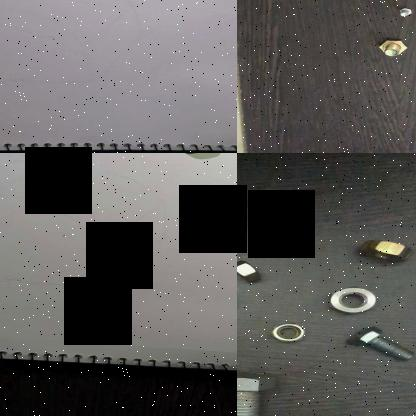Bolts: (237, 190, 305, 246), (344, 323, 416, 366), (237, 364, 280, 416), (376, 36, 412, 57), (393, 4, 416, 16)
NUTS: (324, 280, 382, 314), (348, 237, 414, 265), (268, 318, 310, 344), (237, 258, 262, 282)
